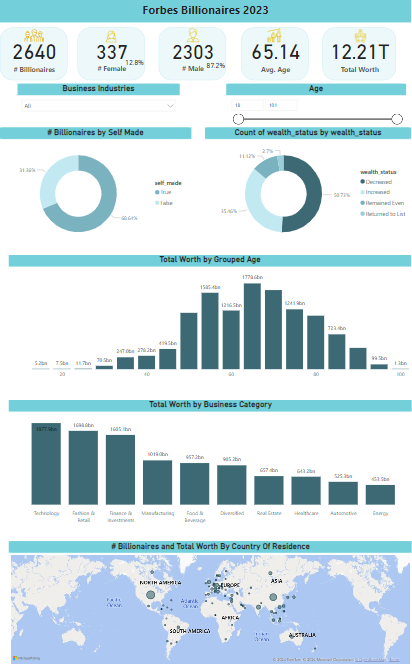

The dashboard page shown, as its layout file describes it:
{"tool":"powerbi","page":{"name":"Overview","canvas":[1000,1600],"ordinal":0},"visuals":[{"type":"textbox","box":[11.4,0,968.6,52.9],"z":0},{"type":"card","fields":{"Values":["_DAX Measures.# Billionaires"]},"box":[12.9,64.3,158.6,124.3],"z":1000},{"type":"card","fields":{"Values":["_DAX Measures.# Male"]},"box":[384.3,64.3,158.6,124.3],"z":2000},{"type":"card","fields":{"Values":["_DAX Measures.# Female"]},"box":[194.3,64.3,158.6,124.3],"z":3000},{"type":"card","fields":{"Values":["_DAX Measures.Avg. Age"]},"box":[578.6,64.3,158.6,124.3],"z":4000},{"type":"donutChart","fields":{"Category":["billionaires_2023.wealth_status"],"Y":["CountNonNull(billionaires_2023.wealth_status)"]},"box":[495,300,485,282.5],"z":5000},{"type":"columnChart","fields":{"Category":["billionaires_2023.Grouped Age"],"Y":["_DAX Measures.Total Worth"]},"box":[32.5,600,947.5,297.5],"z":6000},{"type":"donutChart","title":"# Billionaires by Self Made","fields":{"Category":["billionaires_2023.self_made"],"Y":["_DAX Measures.# Billionaires"]},"box":[12.5,300,450,282.5],"z":7000},{"type":"columnChart","title":"Total Worth by Business Category","fields":{"Category":["billionaires_2023.business_category"],"Y":["_DAX Measures.Total Worth"]},"box":[32,940,950,296],"z":8000},{"type":"map","title":"# Billionaires and Total Worth By Country Of Residence","fields":{"Category":["billionaires_2023.country_of_residence"],"Size":["_DAX Measures.# Billionaires"]},"box":[32,1274,950,294],"z":9000},{"type":"card","fields":{"Values":["_DAX Measures.Total Worth"]},"box":[771.4,64.3,172.9,124.3],"z":10000},{"type":"image","box":[65.7,52.9,55.7,61.4],"z":11000},{"type":"image","box":[244.3,68,58.6,37.1],"z":12000},{"type":"card","fields":{"Values":["_DAX Measures.% Female"]},"box":[284.3,125.7,85.7,44.3],"z":13000},{"type":"card","fields":{"Values":["_DAX Measures.% Male"]},"box":[475.7,133.1,85.7,44.3],"z":14000},{"type":"image","box":[428.6,62.9,77.1,42.9],"z":15000},{"type":"image","box":[627.1,62.9,61.4,42.9],"z":16000},{"type":"image","box":[831.4,62.9,54.3,45.7],"z":17000},{"type":"slicer","title":"Business Industries","fields":{"Values":["billionaires_2023.business_industries"]},"box":[54.3,195.7,381.4,95.7],"z":18000},{"type":"slicer","title":"Age","fields":{"Values":["billionaires_2023.age"]},"box":[542.9,195.7,422.9,95.7],"z":19000}]}

Visuals, with their boxes in screenshot pixels (x1, y1, x2, y2), scaled from the page's 1000x1600 canvas onto the 412x666 screenshot:
textbox: Rect(5, 0, 404, 22)
card - _DAX Measures.# Billionaires: Rect(5, 27, 71, 79)
card - _DAX Measures.# Male: Rect(158, 27, 224, 79)
card - _DAX Measures.# Female: Rect(80, 27, 145, 79)
card - _DAX Measures.Avg. Age: Rect(238, 27, 304, 79)
donutChart - billionaires_2023.wealth_status x CountNonNull(billionaires_2023.wealth_status): Rect(204, 125, 404, 242)
columnChart - billionaires_2023.Grouped Age x _DAX Measures.Total Worth: Rect(13, 250, 404, 374)
"# Billionaires by Self Made" donutChart: Rect(5, 125, 191, 242)
"Total Worth by Business Category" columnChart: Rect(13, 391, 405, 514)
"# Billionaires and Total Worth By Country Of Residence" map: Rect(13, 530, 405, 653)
card - _DAX Measures.Total Worth: Rect(318, 27, 389, 79)
image: Rect(27, 22, 50, 48)
image: Rect(101, 28, 125, 44)
card - _DAX Measures.% Female: Rect(117, 52, 152, 71)
card - _DAX Measures.% Male: Rect(196, 55, 231, 74)
image: Rect(177, 26, 208, 44)
image: Rect(258, 26, 284, 44)
image: Rect(343, 26, 365, 45)
"Business Industries" slicer: Rect(22, 81, 180, 121)
"Age" slicer: Rect(224, 81, 398, 121)
